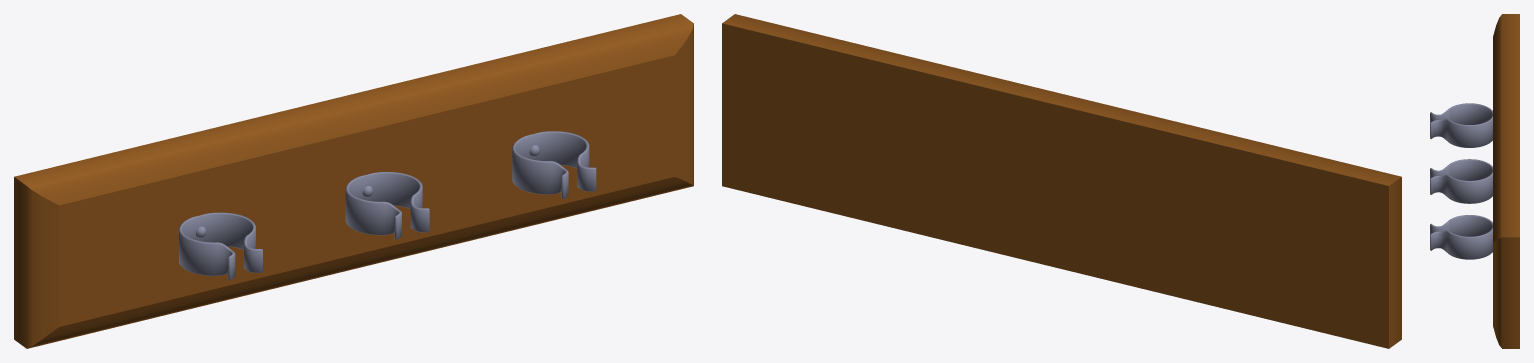
Rendered from broomHookL.fbx.
3 renders of one model, left to right at view 1: azimuth 30°, elevation 25°; view 2: azimuth 150°, elevation 25°; view 3: azimuth 270°, elevation 25°, orthographic. The views are drawn at different scales.
Parts seen in each view (by area): view 1: Cube, Cylinder.003, Cylinder, Cylinder.002; view 2: Cube; view 3: Cube, Cylinder.002, Cylinder.003, Cylinder.
Part boxes in pixels (x1=…): Cube: x1=14, y1=14, x2=693, y2=348; Cylinder.003: x1=512, y1=131, x2=596, y2=199; Cylinder: x1=345, y1=172, x2=429, y2=239; Cylinder.002: x1=179, y1=212, x2=262, y2=280; Cube: x1=722, y1=14, x2=1401, y2=348; Cube: x1=1493, y1=14, x2=1519, y2=348; Cylinder.002: x1=1430, y1=103, x2=1492, y2=147; Cylinder.003: x1=1430, y1=215, x2=1492, y2=259; Cylinder: x1=1430, y1=159, x2=1492, y2=203.
Bounding box in the file's own units: 600 × 140 × 102.
